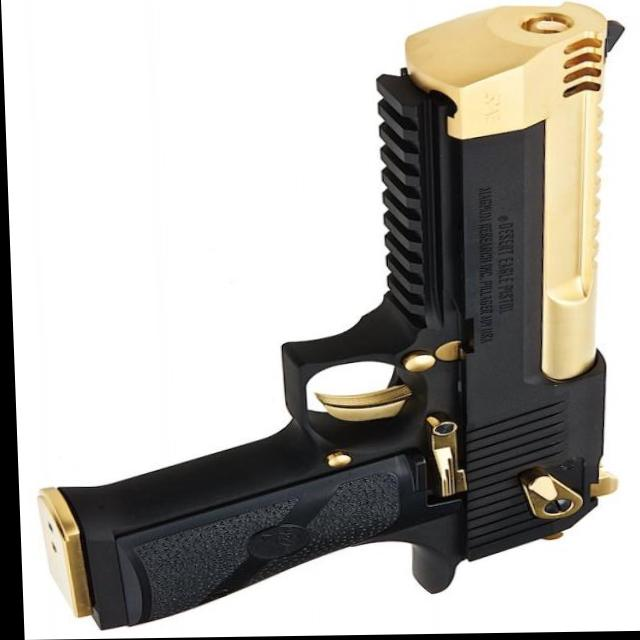handgun: (15, 8, 640, 635)
